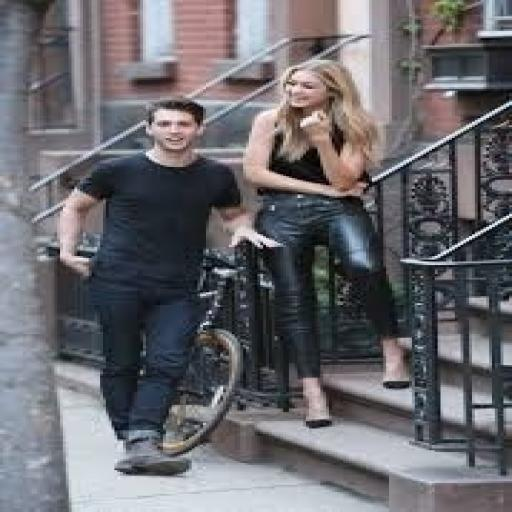cycling: (54, 96, 284, 478), (237, 58, 415, 430)
